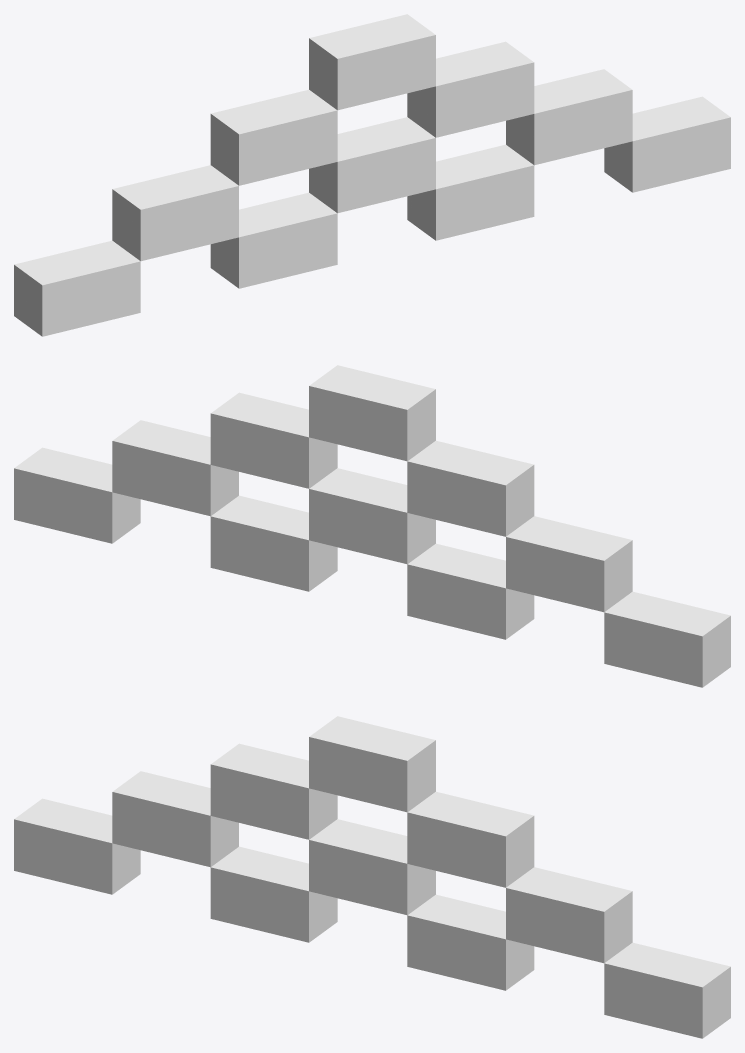
File: Coins-White.vox.obj
3 renders of one model, top to bottom at view 1: azimuth 30°, elevation 25°; view 2: azimuth 150°, elevation 25°; view 3: azimuth 330°, elevation 25°, orthographic.
Size of the model in its own units: 1.4 by 0.4 by 0.1.
Materials: 1 (1 with a texture image).
